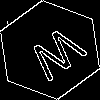W: (25, 25, 95, 90)
